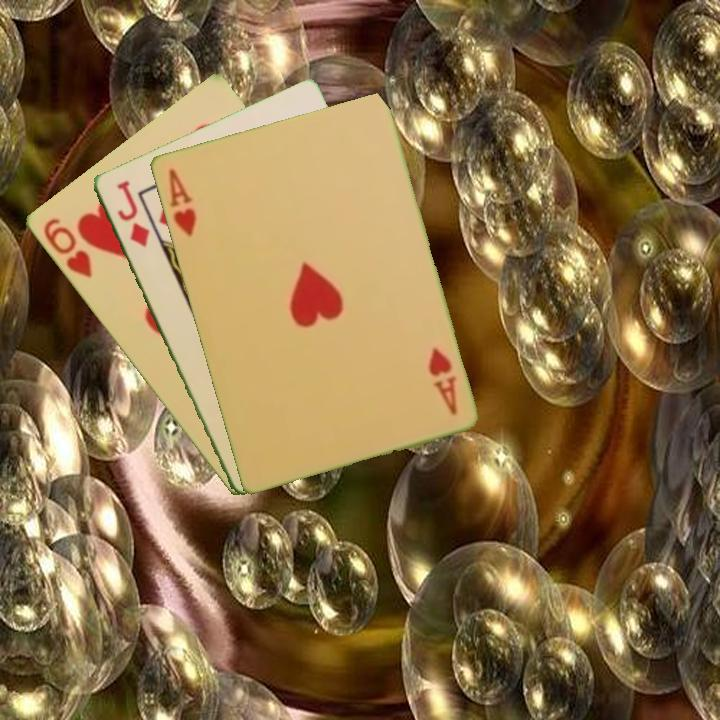6h: (39, 214, 95, 281)
Ah: (164, 164, 199, 239), (424, 344, 459, 418)
Jd: (113, 176, 152, 250)
